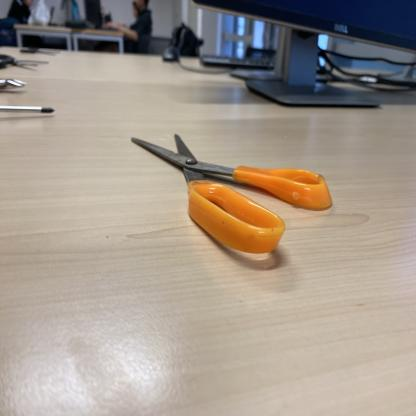scissors: (129, 131, 336, 254), (0, 51, 50, 71)
